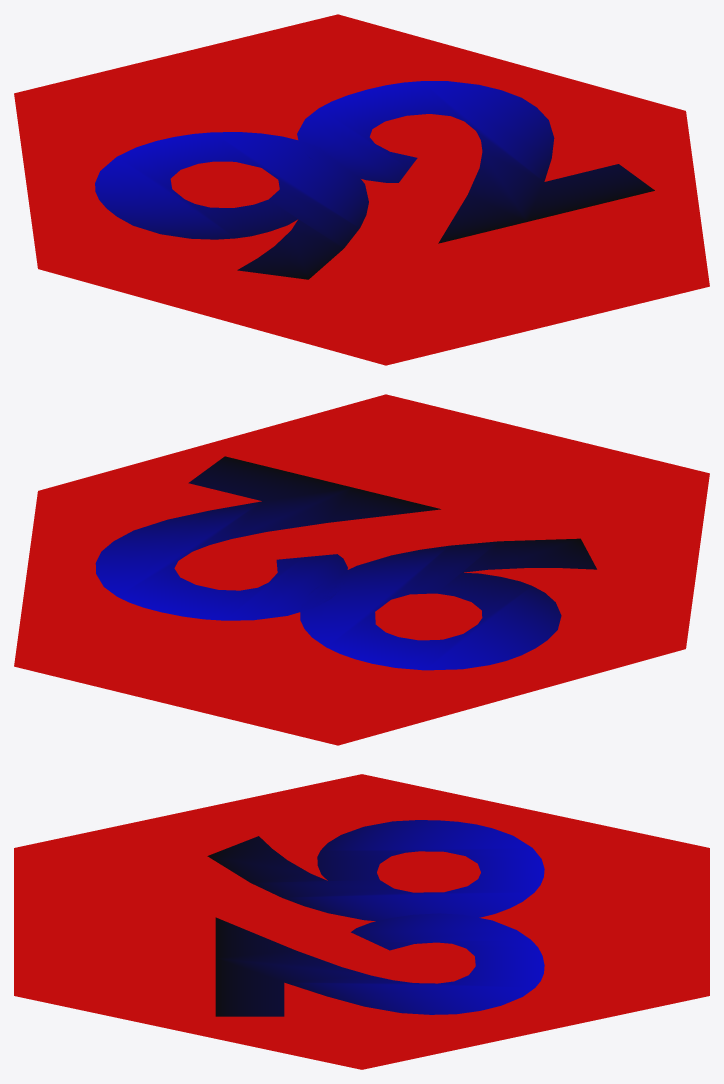
File: SM_Number_92.fbx
3 renders of one model, top to bottom at view 1: azimuth 30°, elevation 25°; view 2: azimuth 150°, elevation 25°; view 3: azimuth 270°, elevation 25°, orthographic. The views are drawn at different scales.
Parts seen in each view (by area): view 1: FBX_OUT; view 2: FBX_OUT; view 3: FBX_OUT.
Boxes of the visible parts, bbox=[...] form: FBX_OUT: bbox=[14, 14, 709, 365]; FBX_OUT: bbox=[14, 394, 709, 745]; FBX_OUT: bbox=[14, 774, 709, 1069].
Size of the model in its own units: 50 by 0.2917 by 49.71.
